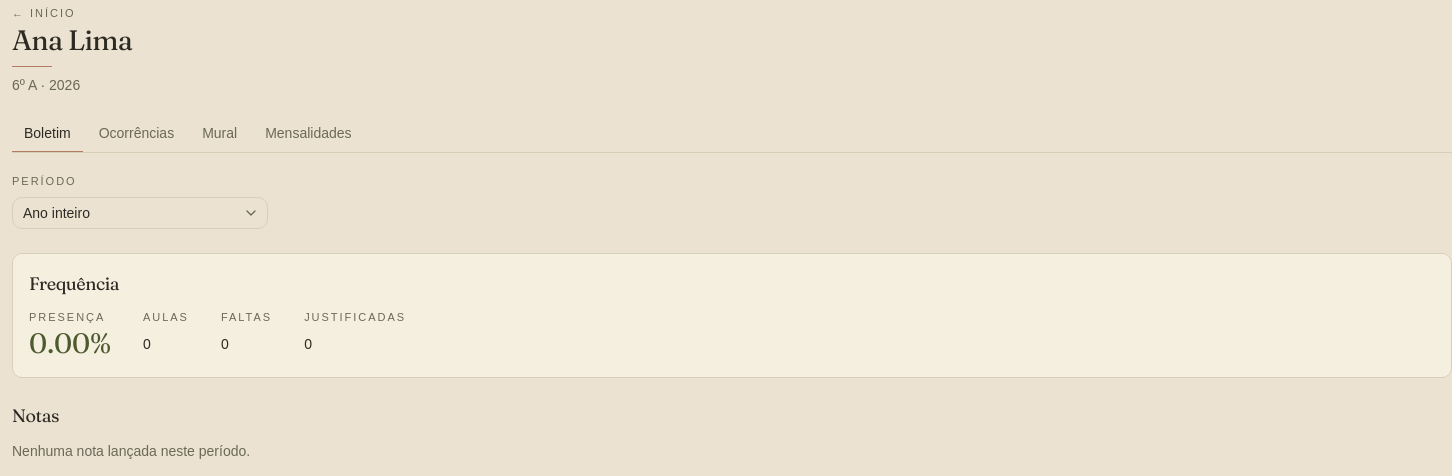
Test: AlunoPage — mensalidades › avisa quando não há mensalidade registrada
The width and height of the screenshot is (1452, 476).
Expected: the heading "Ana Lima" is shown, [12, 23, 132, 57]
Click the tab "Mensalidades" at (308, 134), box [253, 115, 364, 153]
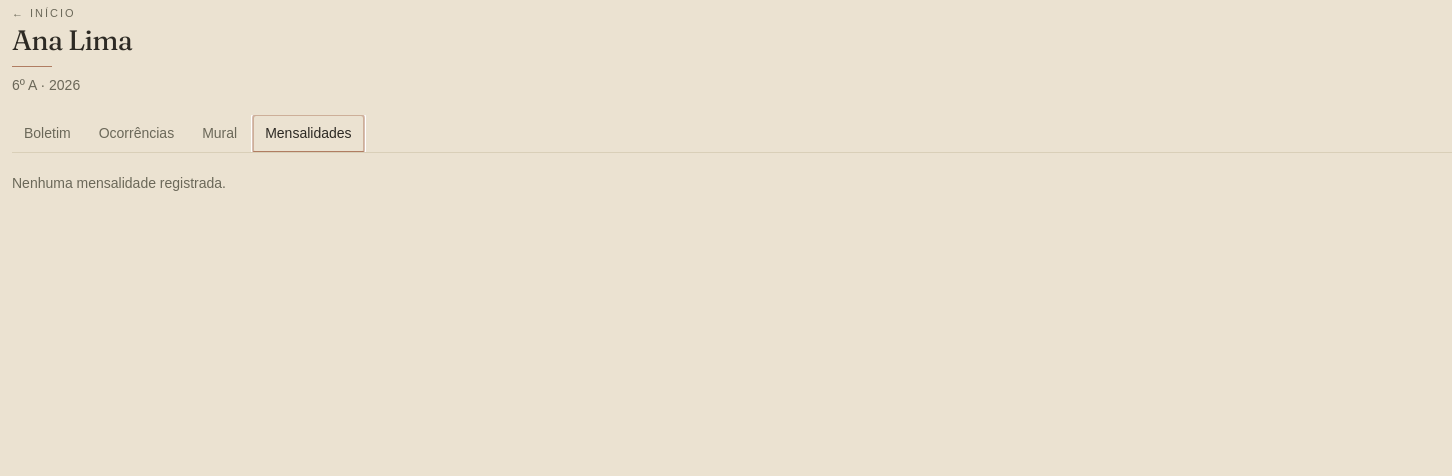
Result: the text "Nenhuma mensalidade registrada." is shown at [12, 175, 226, 191]
